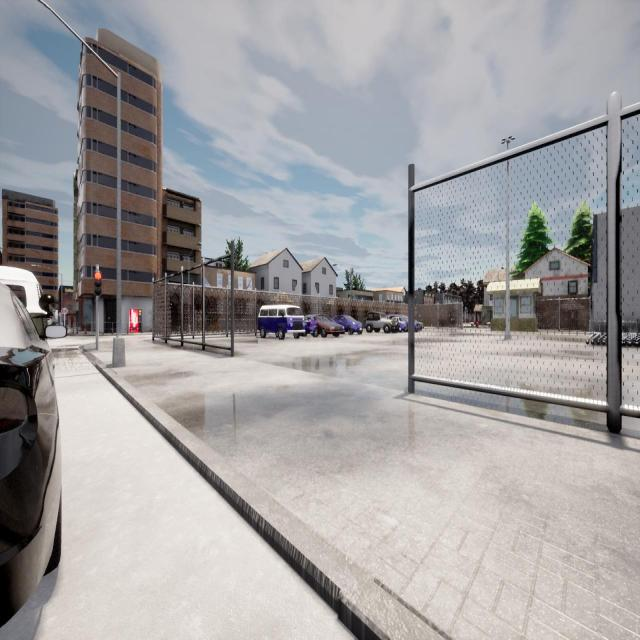Pedestrian: (70, 316, 74, 335)
Traffic_Signs: (62, 308, 68, 314), (59, 313, 62, 317)
Vehicle: (0, 282, 65, 626), (0, 266, 47, 339), (257, 305, 305, 339), (306, 314, 345, 338), (365, 311, 399, 334), (388, 314, 425, 332), (334, 315, 364, 335)
traffic_light: (94, 270, 102, 296)
